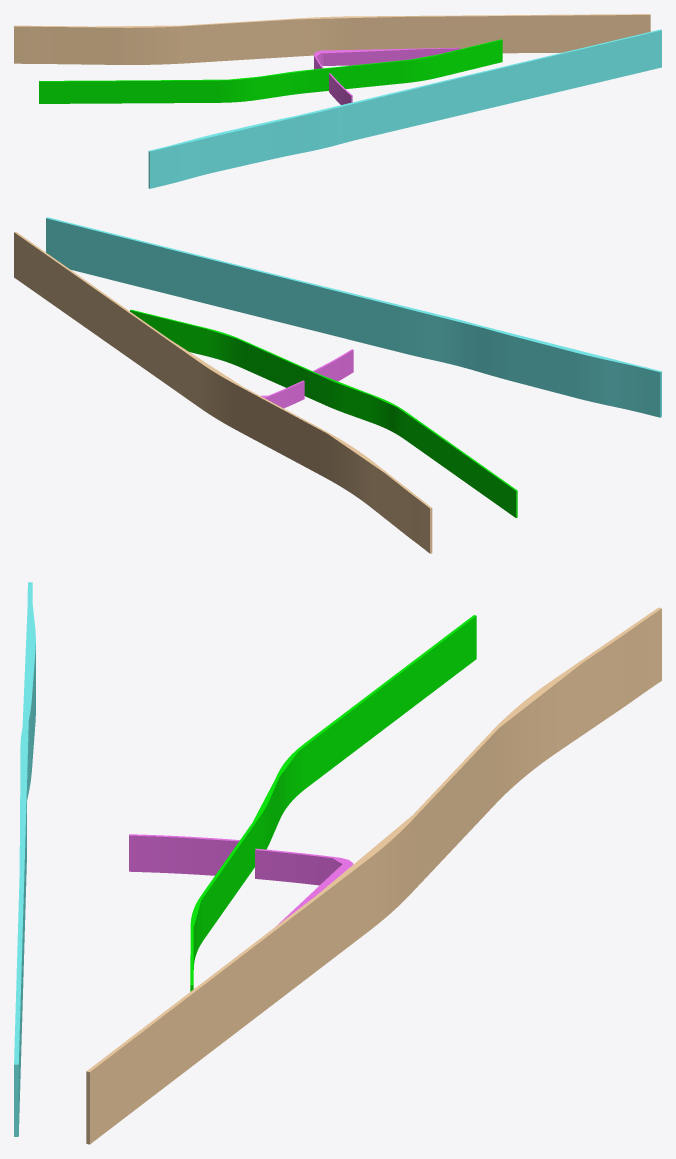
The model's file is 3Dobj.gltf.
3 renders of one model, top to bottom at view 1: azimuth 30°, elevation 25°; view 2: azimuth 150°, elevation 25°; view 3: azimuth 270°, elevation 25°, orthographic. The views are drawn at different scales.
Visible parts, largest first — view 1: Mesh1 Group1 Model, Mesh5 Group5 Model, Mesh2 Group2 Model, Mesh3 Group3 Model, Mesh4 Group4 Model; view 2: Mesh5 Group5 Model, Mesh1 Group1 Model, Mesh2 Group2 Model, Mesh4 Group4 Model, Mesh3 Group3 Model; view 3: Mesh1 Group1 Model, Mesh2 Group2 Model, Mesh5 Group5 Model, Mesh4 Group4 Model, Mesh3 Group3 Model.
Boxes of the visible parts, x1,y1,x2,y2 form: Mesh1 Group1 Model: (14, 14, 650, 64); Mesh5 Group5 Model: (148, 29, 661, 188); Mesh2 Group2 Model: (39, 39, 502, 103); Mesh3 Group3 Model: (314, 47, 460, 69); Mesh4 Group4 Model: (329, 73, 352, 104); Mesh5 Group5 Model: (46, 217, 661, 417); Mesh1 Group1 Model: (14, 231, 432, 553); Mesh2 Group2 Model: (130, 309, 517, 517); Mesh4 Group4 Model: (313, 349, 353, 381); Mesh3 Group3 Model: (261, 380, 304, 408); Mesh1 Group1 Model: (86, 607, 661, 1144); Mesh2 Group2 Model: (190, 615, 476, 991); Mesh5 Group5 Model: (14, 582, 35, 1136); Mesh4 Group4 Model: (129, 834, 239, 875); Mesh3 Group3 Model: (255, 848, 353, 926).
Size of the model in its own units: 2904 by 200 by 1623.
